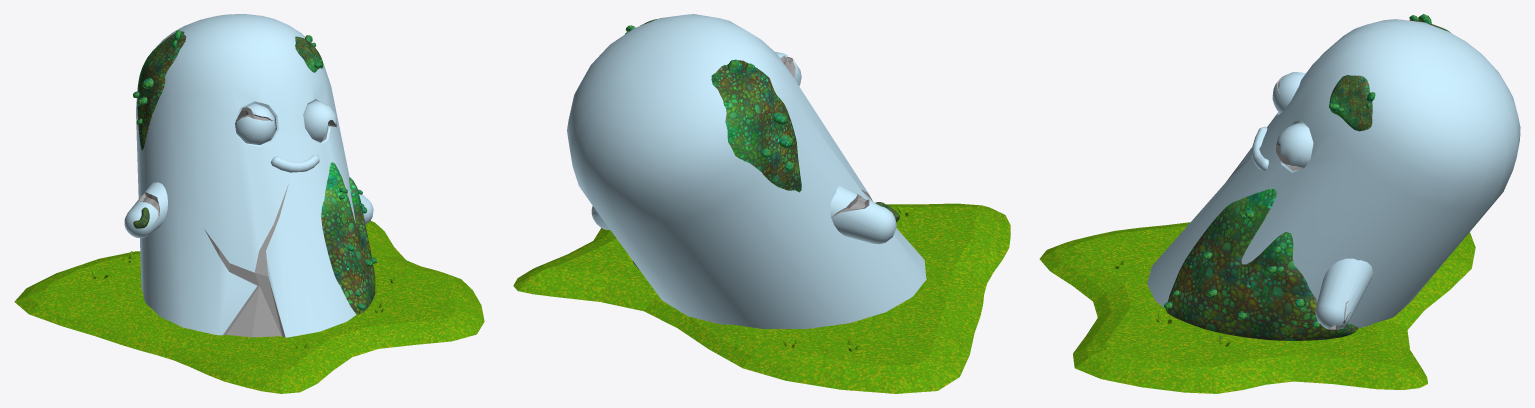
The model's file is OldStatue1.fbx.
The picture shows the model from 3 angles, left to right: view 1: azimuth 30°, elevation 25°; view 2: azimuth 150°, elevation 25°; view 3: azimuth 270°, elevation 25°; orthographic projection. The views are drawn at different scales.
Visible parts, largest first — view 1: OldGotchi1_LOD0; view 2: OldGotchi1_LOD0; view 3: OldGotchi1_LOD0.
Part boxes in pixels (left/top/right/bottom): OldGotchi1_LOD0: left=14, top=14, right=484, bottom=393; OldGotchi1_LOD0: left=513, top=14, right=1010, bottom=393; OldGotchi1_LOD0: left=1039, top=14, right=1520, bottom=393.
Size of what is drawn, in the model's own units: 4020 by 2538 by 3978.
